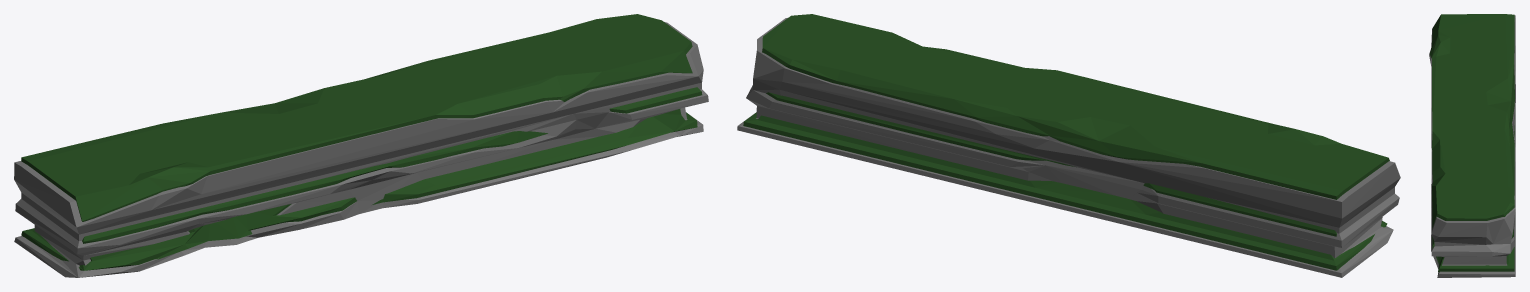
The model's file is SM_ornaments_jungle_02.fbx.
3 views of the same model, side by side, from view 1: azimuth 30°, elevation 25°; view 2: azimuth 150°, elevation 25°; view 3: azimuth 270°, elevation 25° (orthographic). The views are drawn at different scales.
Visible parts, largest first — view 1: Object041; view 2: Object041; view 3: Object041.
Part boxes in pixels (box(x1,y1,x2,y2)): Object041: box(14, 14, 708, 277); Object041: box(737, 14, 1400, 277); Object041: box(1429, 14, 1515, 277).
Bounding box in the file's own units: 375 × 51.92 × 65.97.
